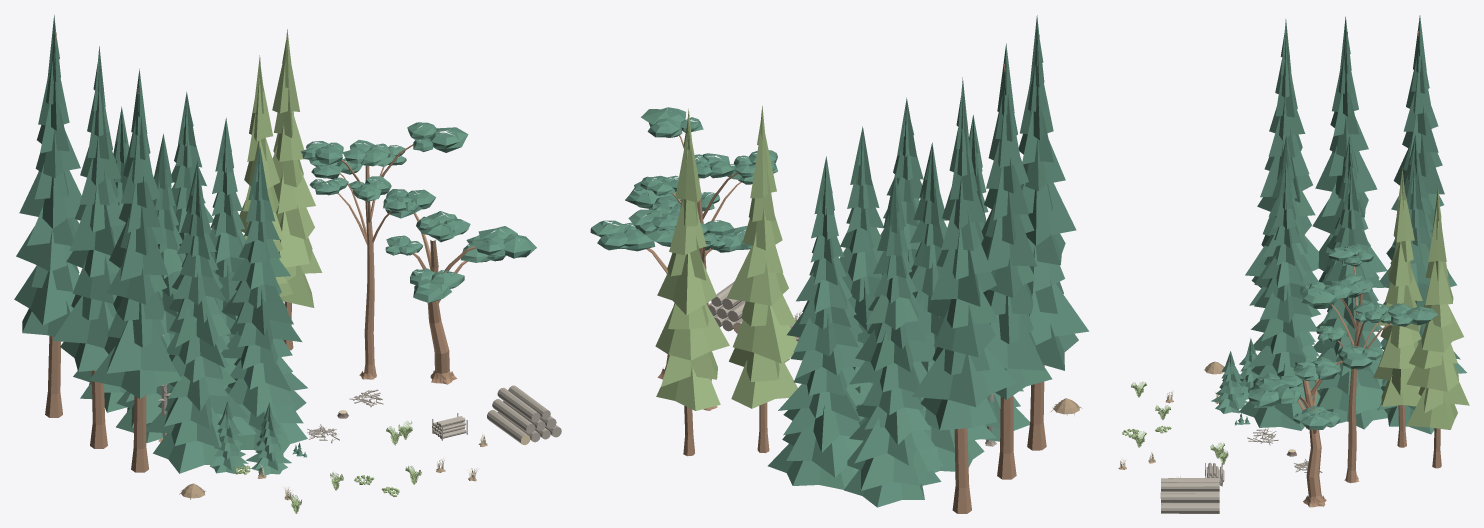
Rendered from temperate-forest-ecology-conifer-plantation-edge-13137e82__3883.glb.
3 renders of one model, left to right at view 1: azimuth 30°, elevation 25°; view 2: azimuth 150°, elevation 25°; view 3: azimuth 270°, elevation 25°, orthographic. The views are drawn at different scales.
Visible parts, largest first — view 1: 007-norway-spruce-mature/1, 008-norway-spruce-mature/1, 006-douglas-fir-mature/1, 000-douglas-fir-mature/1, 003-douglas-fir-mature/1, 010-european-larch-mature/1, 011-scots-pine-mature/1, 012-scots-pine-veteran/1, 005-norway-spruce-mature/1, 004-norway-spruce-mature/1, 009-european-larch-mature/1, 023-sawn-log-stack-large/0 (+9 smaller); view 2: 001-norway-spruce-mature/1, 002-norway-spruce-mature/1, 000-douglas-fir-mature/1, 003-douglas-fir-mature/1, 009-european-larch-mature/1, 006-douglas-fir-mature/1, 010-european-larch-mature/1, 004-norway-spruce-mature/1, 005-norway-spruce-mature/1, 011-scots-pine-mature/1, 012-scots-pine-veteran/1, 008-norway-spruce-mature/1 (+6 smaller); view 3: 008-norway-spruce-mature/1, 010-european-larch-mature/1, 005-norway-spruce-mature/1, 003-douglas-fir-mature/1, 009-european-larch-mature/1, 006-douglas-fir-mature/1, 000-douglas-fir-mature/1, 011-scots-pine-mature/1, 012-scots-pine-veteran/1, 002-norway-spruce-mature/1, 007-norway-spruce-mature/1, 023-sawn-log-stack-large/0 (+6 smaller).
Part boxes in pixels (left/top/right/bottom): 007-norway-spruce-mature/1: left=146, top=161, right=256, bottom=473; 008-norway-spruce-mature/1: left=221, top=146, right=307, bottom=453; 006-douglas-fir-mature/1: left=89, top=69, right=182, bottom=398; 000-douglas-fir-mature/1: left=14, top=15, right=81, bottom=337; 003-douglas-fir-mature/1: left=52, top=46, right=125, bottom=371; 010-european-larch-mature/1: left=272, top=29, right=322, bottom=307; 011-scots-pine-mature/1: left=300, top=122, right=468, bottom=211; 012-scots-pine-veteran/1: left=385, top=189, right=536, bottom=302; 005-norway-spruce-mature/1: left=209, top=117, right=246, bottom=393; 004-norway-spruce-mature/1: left=116, top=133, right=185, bottom=442; 009-european-larch-mature/1: left=239, top=55, right=293, bottom=296; 023-sawn-log-stack-large/0: left=487, top=385, right=561, bottom=443; 001-norway-spruce-mature/1: left=844, top=173, right=943, bottom=507; 002-norway-spruce-mature/1: left=768, top=156, right=864, bottom=489; 000-douglas-fir-mature/1: left=912, top=77, right=1016, bottom=430; 003-douglas-fir-mature/1: left=981, top=43, right=1052, bottom=399; 009-european-larch-mature/1: left=726, top=105, right=797, bottom=408; 006-douglas-fir-mature/1: left=1018, top=15, right=1089, bottom=370; 010-european-larch-mature/1: left=655, top=108, right=729, bottom=410; 004-norway-spruce-mature/1: left=908, top=142, right=996, bottom=472; 005-norway-spruce-mature/1: left=839, top=126, right=883, bottom=425; 011-scots-pine-mature/1: left=640, top=107, right=777, bottom=246; 012-scots-pine-veteran/1: left=590, top=175, right=751, bottom=252; 008-norway-spruce-mature/1: left=880, top=97, right=923, bottom=274; 008-norway-spruce-mature/1: left=1239, top=162, right=1320, bottom=430; 010-european-larch-mature/1: left=1406, top=189, right=1469, bottom=429; 005-norway-spruce-mature/1: left=1315, top=163, right=1394, bottom=429; 003-douglas-fir-mature/1: left=1312, top=16, right=1387, bottom=282; 009-european-larch-mature/1: left=1373, top=167, right=1422, bottom=406; 006-douglas-fir-mature/1: left=1245, top=19, right=1318, bottom=287; 000-douglas-fir-mature/1: left=1380, top=15, right=1456, bottom=288; 011-scots-pine-mature/1: left=1299, top=245, right=1437, bottom=341; 012-scots-pine-veteran/1: left=1248, top=345, right=1381, bottom=430; 002-norway-spruce-mature/1: left=1377, top=162, right=1434, bottom=434; 007-norway-spruce-mature/1: left=1249, top=136, right=1320, bottom=360; 023-sawn-log-stack-large/0: left=1161, top=478, right=1219, bottom=513.
Size of the model in its own units: 36.14 by 31.48 by 28.73.
